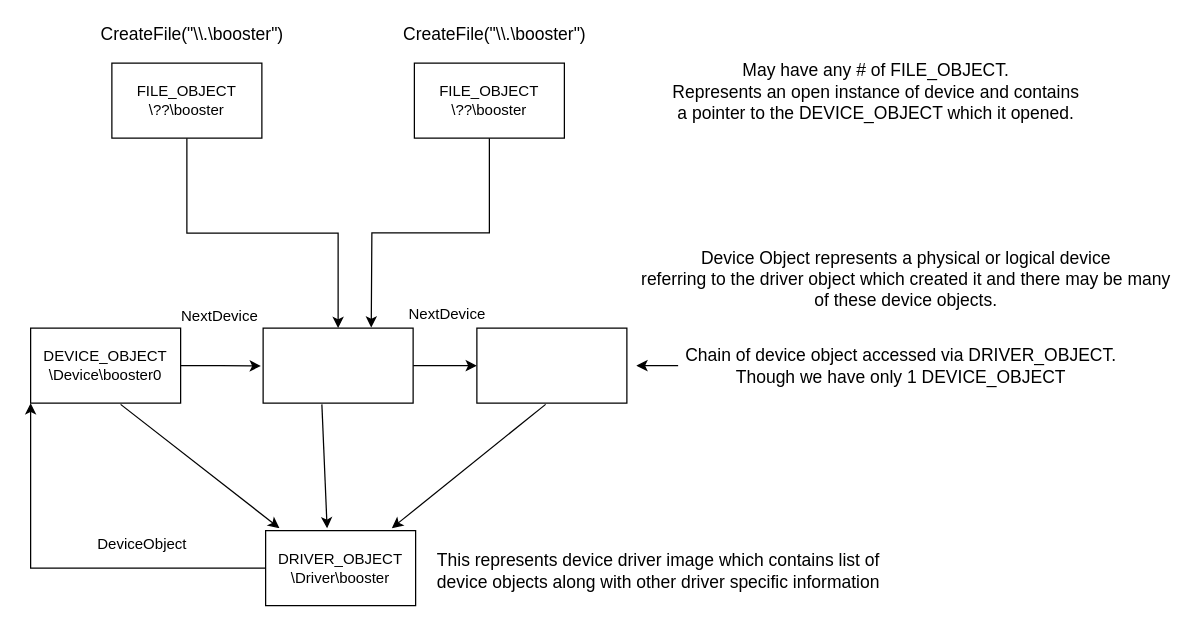
Some shapes in this 1198 by 628 pixel diagram are drawn without their labels. Each missing label, with the centre of its shape:
DEVICE_OBJECT \Device\booster: pixel 337 365
DEVICE_OBJECT \Device\booster2: pixel 551 365
